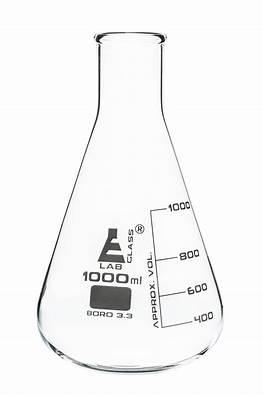Titrarion: (41, 26, 233, 361)
